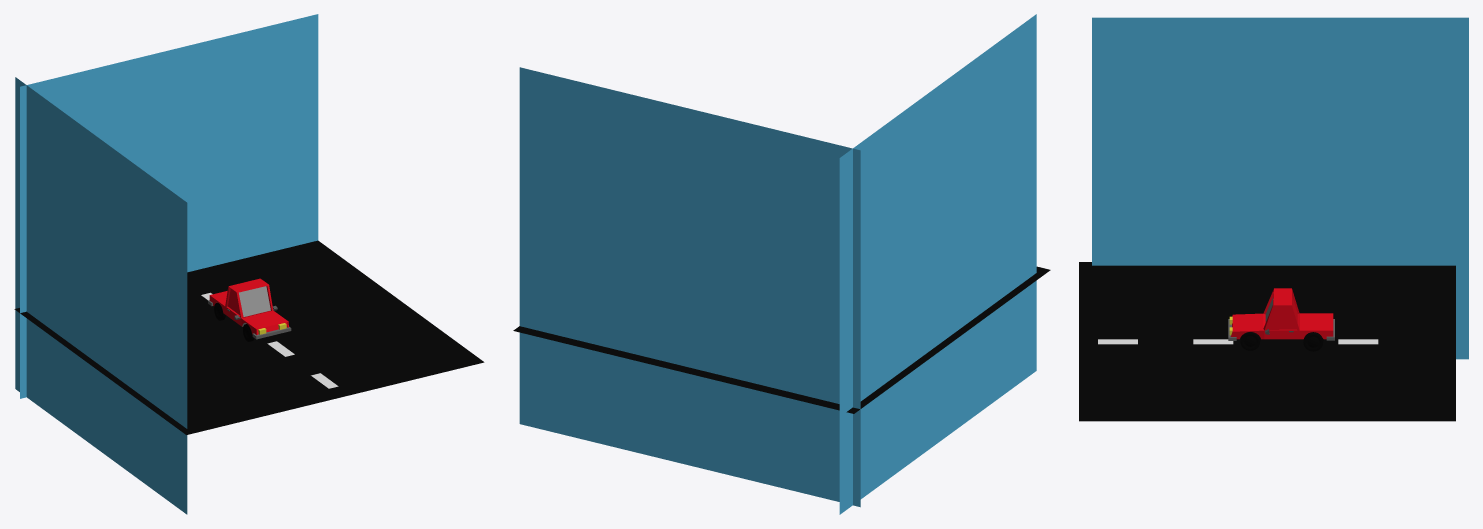
Rendered from car.glb.
3 renders of one model, left to right at view 1: azimuth 30°, elevation 25°; view 2: azimuth 150°, elevation 25°; view 3: azimuth 270°, elevation 25°, orthographic. The views are drawn at different scales.
Parts seen in each view (by area): view 1: Plane.005, Plane.001, Plane, car body, car body.001; view 2: Plane.001, Plane.005, Plane; view 3: Plane.005, Plane, car body, weel.002.
Part boxes in pixels (x1=…): Plane.005: x1=15, y1=77, x2=187, y2=514; Plane.001: x1=20, y1=14, x2=318, y2=398; Plane: x1=14, y1=240, x2=484, y2=434; car body: x1=209, y1=278, x2=288, y2=334; car body.001: x1=239, y1=286, x2=270, y2=316; Plane.001: x1=519, y1=67, x2=860, y2=507; Plane.005: x1=839, y1=14, x2=1036, y2=514; Plane: x1=513, y1=266, x2=1050, y2=413; Plane.005: x1=1092, y1=17, x2=1468, y2=359; Plane: x1=1079, y1=262, x2=1455, y2=421; car body: x1=1230, y1=288, x2=1333, y2=339; weel.002: x1=1240, y1=332, x2=1323, y2=351.
Bounding box in the file's own units: 18.59 × 18.59 × 19.21.
